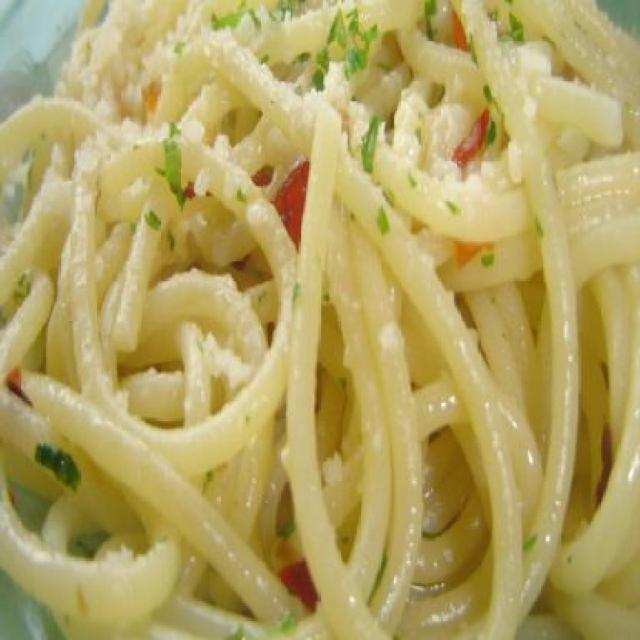Oil pasta: (35, 44, 640, 638)
